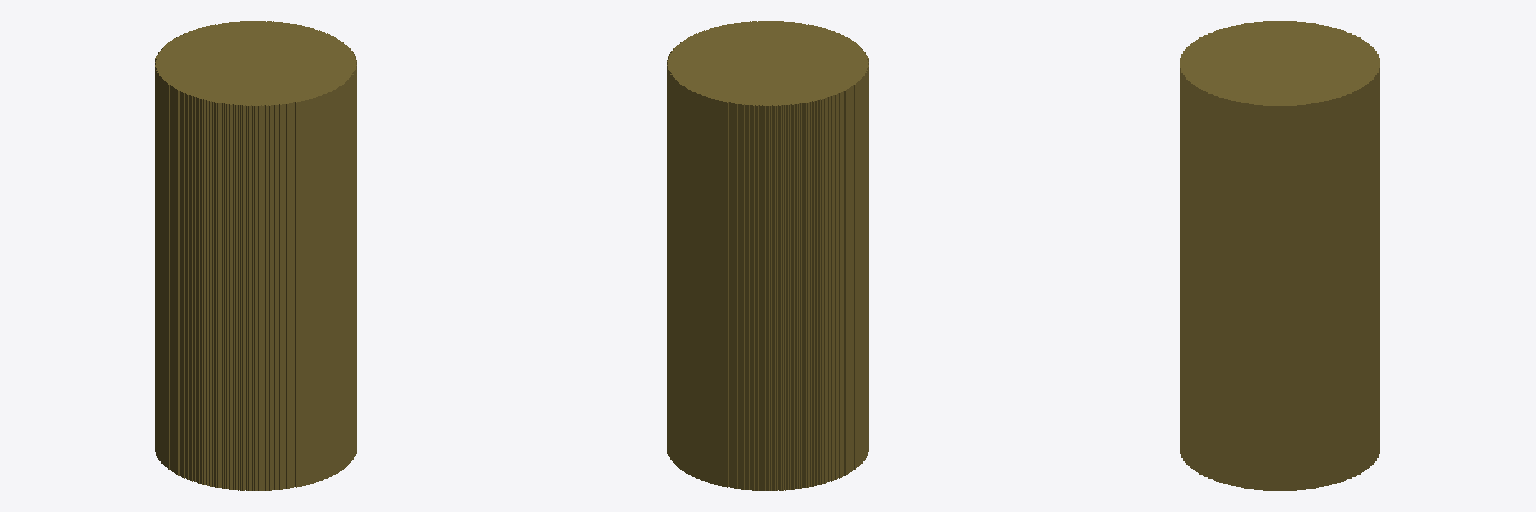
The picture shows the model from 3 angles: view 1: azimuth 30°, elevation 25°; view 2: azimuth 150°, elevation 25°; view 3: azimuth 270°, elevation 25°; orthographic projection.
Parts seen in each view (by area): view 1: object 1; view 2: object 1; view 3: object 1.
Part boxes in pixels (bbox=[...]): object 1: bbox=[155, 21, 356, 490]; object 1: bbox=[667, 21, 868, 490]; object 1: bbox=[1180, 21, 1379, 490].
Bounding box in the file's own units: 12.2 × 25.6 × 12.1.
Materials: 1 (1 with a texture image).